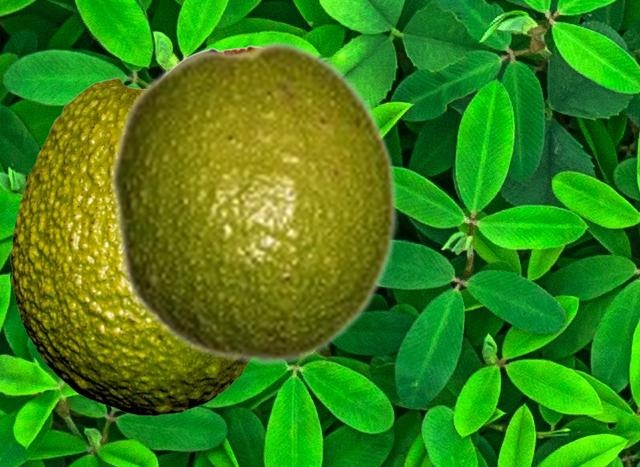avocado: (108, 38, 399, 367), (10, 77, 248, 415)
